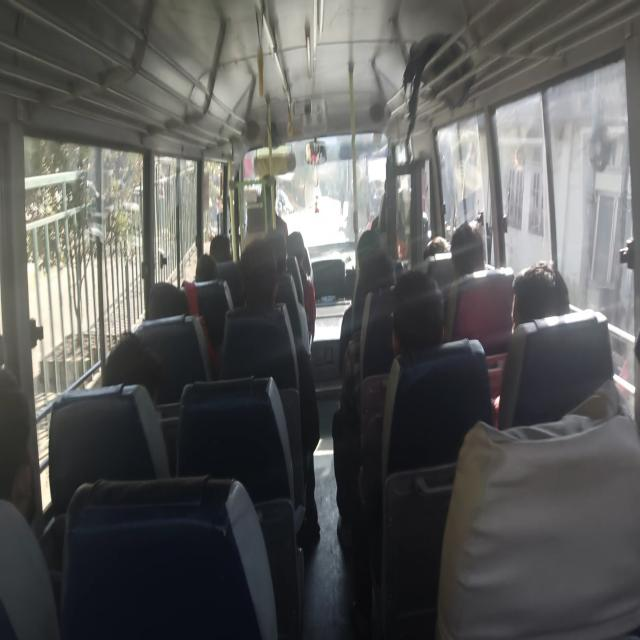person: (0, 387, 61, 518), (503, 259, 572, 348), (105, 335, 158, 417), (388, 276, 445, 348), (237, 253, 280, 321), (146, 274, 190, 339), (455, 221, 488, 286), (364, 250, 401, 296), (423, 234, 465, 272), (201, 242, 229, 290), (214, 224, 238, 276), (260, 223, 290, 260), (285, 230, 309, 276), (354, 238, 387, 259)
